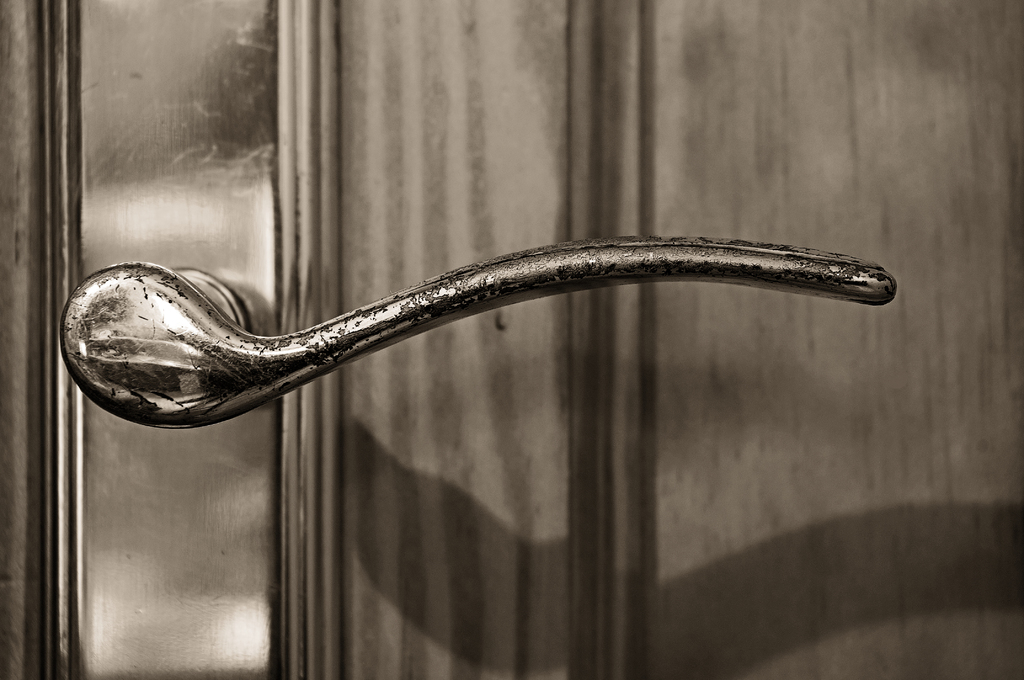door: (70, 24, 1024, 679)
handle: (68, 234, 899, 427)
